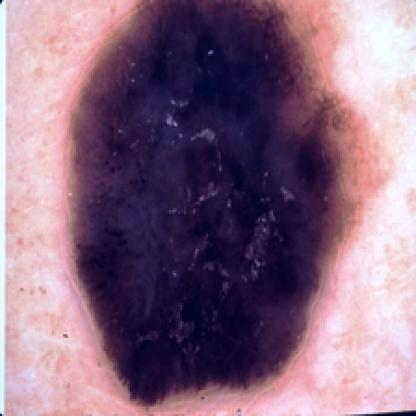malignant: (67, 87, 314, 244)
